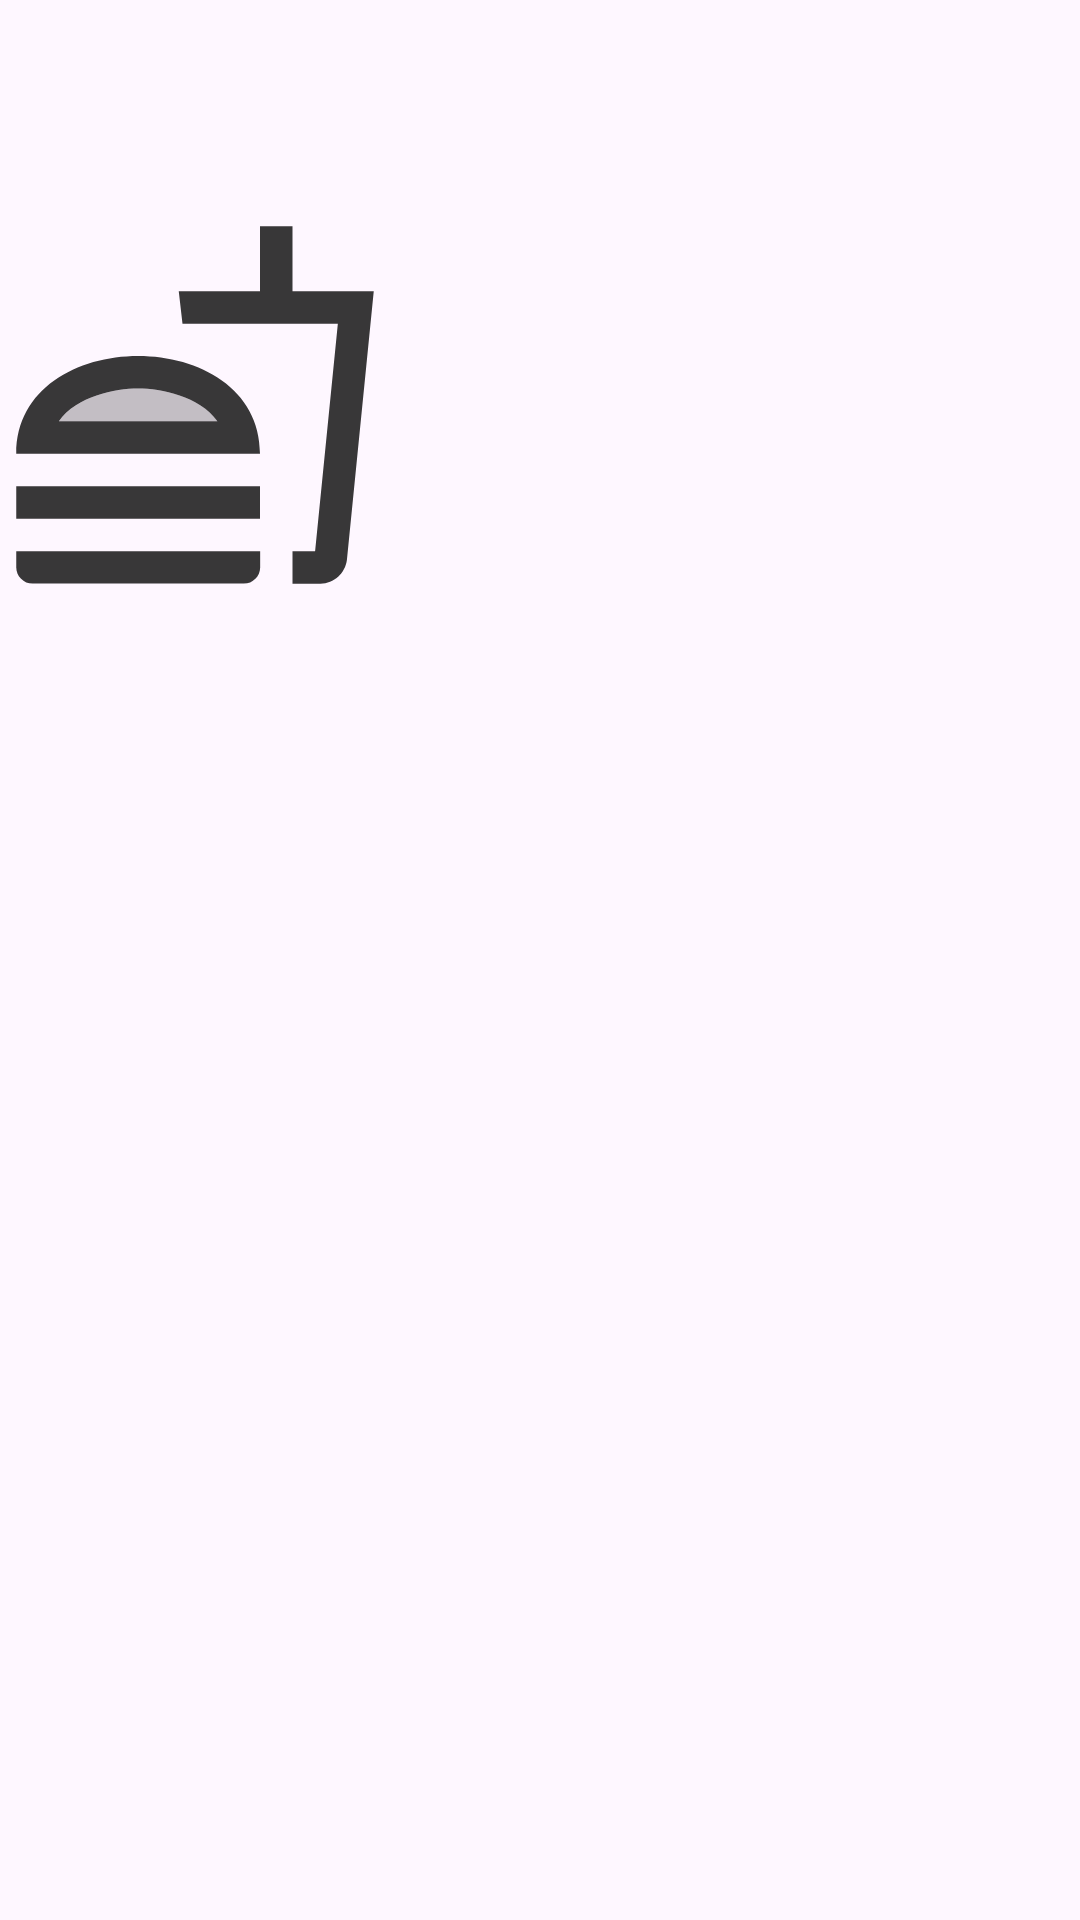

Named icons in this screenshot (1080px×1920px) and their bounding boxes, box(x1, y1, x2, y2):
food: box(16, 226, 374, 584)
